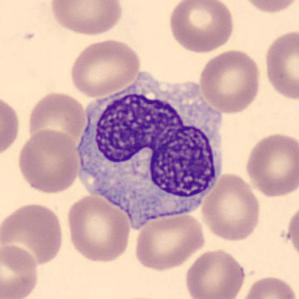Monocyte: (70, 68, 228, 229)
RBC: (67, 36, 143, 98), (65, 194, 132, 264), (0, 200, 66, 270), (132, 211, 207, 272), (197, 47, 263, 115), (200, 171, 262, 243), (15, 127, 81, 194), (25, 90, 88, 150), (166, 0, 236, 54), (243, 130, 298, 198), (182, 247, 247, 299), (48, 0, 125, 37), (262, 28, 298, 103), (0, 242, 41, 299), (237, 273, 298, 299), (0, 92, 22, 160), (284, 201, 299, 265), (237, 0, 299, 15)
